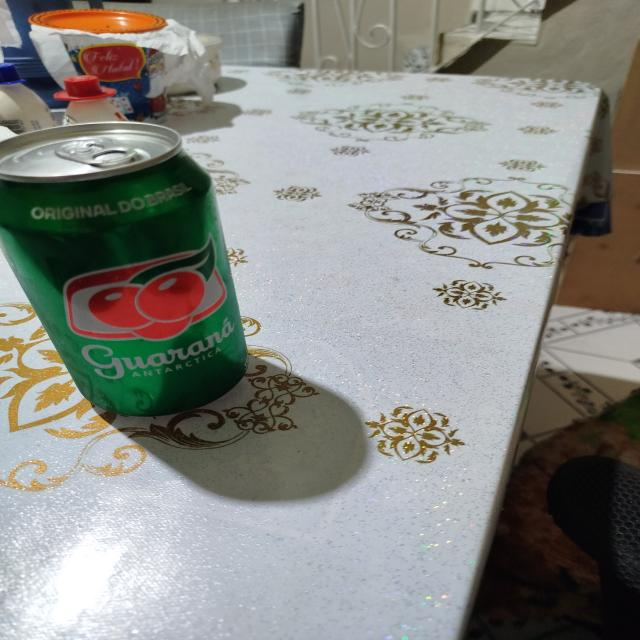Guarana: (1, 116, 250, 418)
